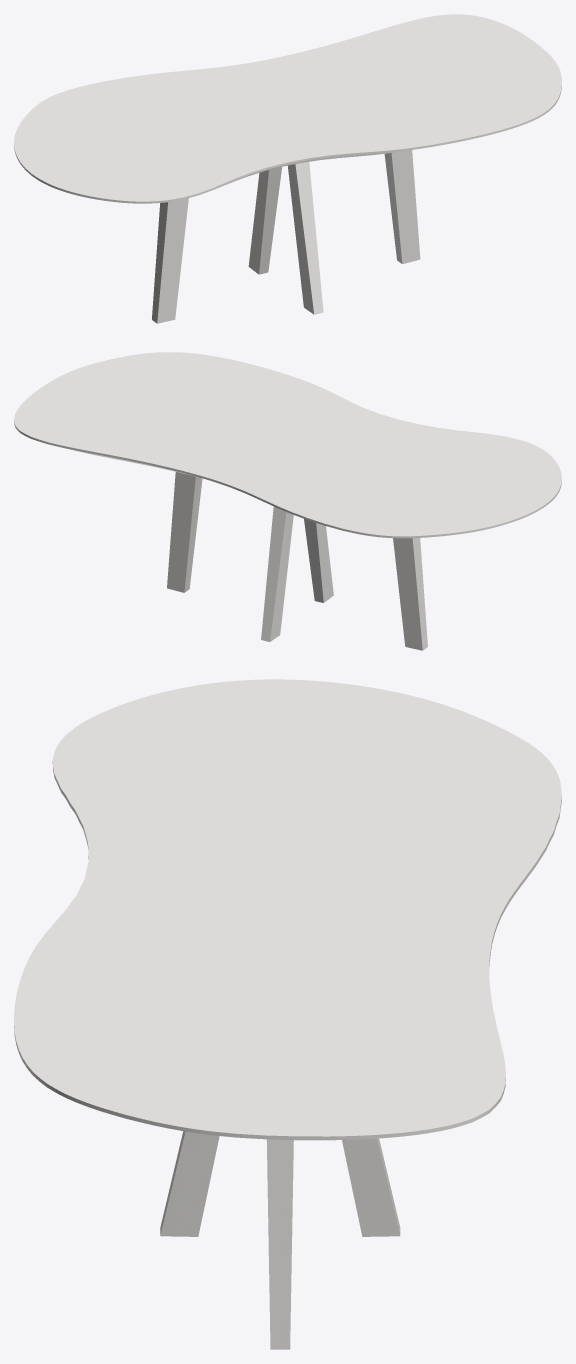
The model's file is purewhite_wave_facet_searwalnut.glb.
3 renders of one model, top to bottom at view 1: azimuth 30°, elevation 25°; view 2: azimuth 150°, elevation 25°; view 3: azimuth 270°, elevation 25°, orthographic. The views are drawn at different scales.
Parts seen in each view (by area): view 1: facet_wave, searwalnut; view 2: facet_wave, searwalnut; view 3: facet_wave, searwalnut.
Boxes of the visible parts, box(x1,y1,x2,y2) form: facet_wave: box(14, 14, 561, 203); searwalnut: box(152, 150, 420, 323); facet_wave: box(14, 352, 561, 538); searwalnut: box(167, 472, 427, 650); facet_wave: box(14, 679, 561, 1140); searwalnut: box(160, 1131, 400, 1349).
Size of the model in its own units: 7.5 by 2.5 by 3.8.
1 material, 1 textured.
